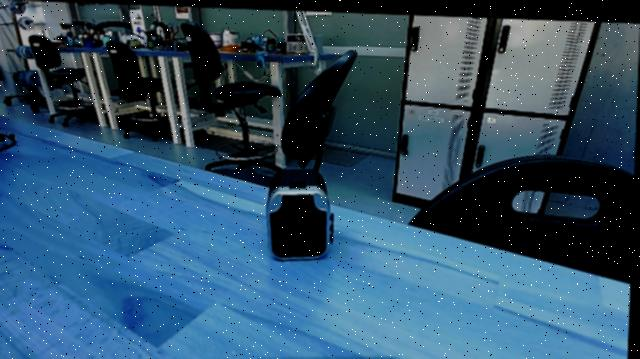adapter: (262, 163, 340, 267)
